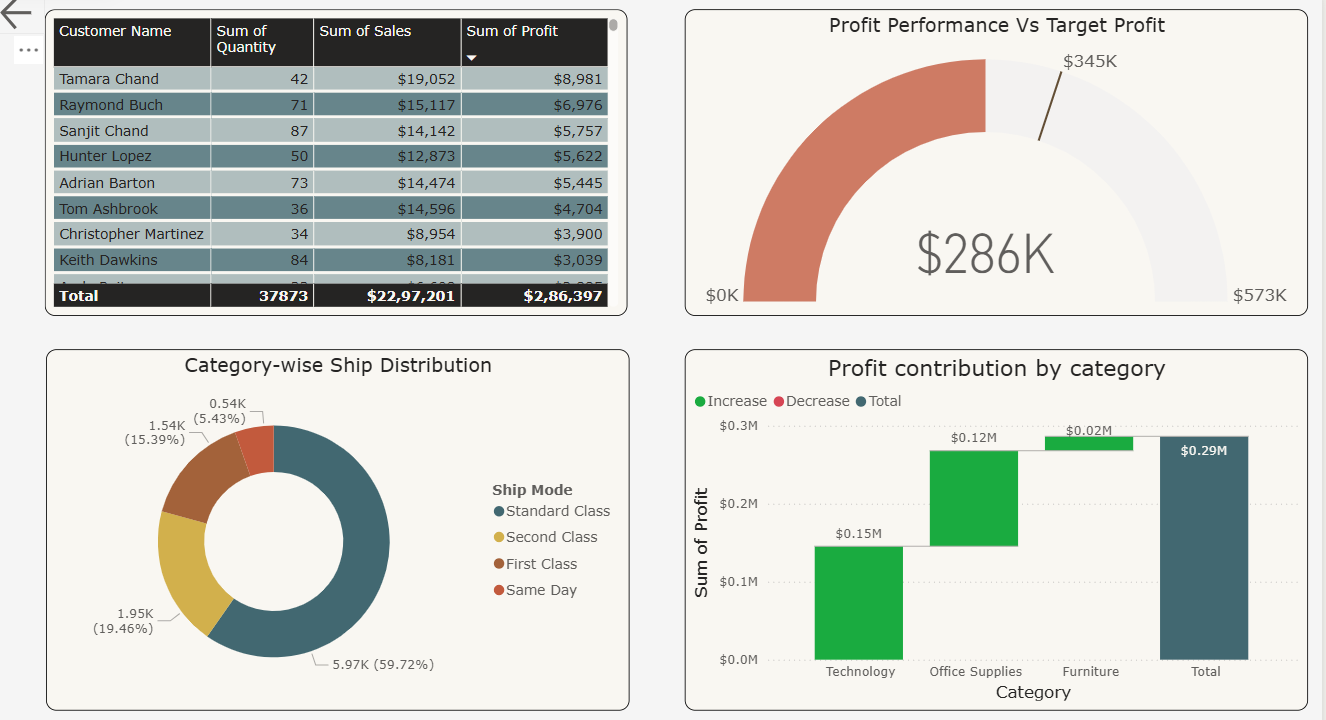

The page's visual inventory and layout, read from the dashboard file:
{"tool":"powerbi","page":{"name":"Page 2","canvas":[1280,720],"ordinal":1},"visuals":[{"type":"pivotTable","fields":{"Rows":["super store sales.Customer Name"],"Values":["Sum(super store sales.Quantity)","Sum(super store sales.Sales)","Sum(super store sales.Profit)"]},"box":[47.5,16.2,562.5,296.2],"z":0},{"type":"gauge","title":"Profit Performance Vs Target Profit","fields":{"Y":["Sum(super store sales.Profit)"],"TargetValue":["super store sales.Target Profit"]},"box":[665,16.2,601.2,296.2],"z":1000},{"type":"funnel","title":"Sales Contribution by Region","fields":{"Category":["super store sales.Region"],"Y":["Sum(super store sales.Sales)"]},"box":[47.5,343.8,575,348.8],"z":2000},{"type":"waterfallChart","title":"Profit contribution by category","fields":{"Category":["super store sales.Category"],"Y":["Sum(super store sales.Profit)"]},"box":[665,343.8,601.2,348.8],"z":3000},{"type":"actionButton","box":[0,0,47.5,40],"z":4000}]}

Visuals, with their boxes in screenshot pixels (x1, y1, x2, y2):
pivotTable - super store sales.Customer Name x Sum(super store sales.Quantity): <box>49,10,625,313</box>
"Profit Performance Vs Target Profit" gauge: <box>682,10,1298,313</box>
"Sales Contribution by Region" funnel: <box>49,345,638,703</box>
"Profit contribution by category" waterfallChart: <box>682,345,1298,703</box>
actionButton: <box>0,0,49,34</box>
